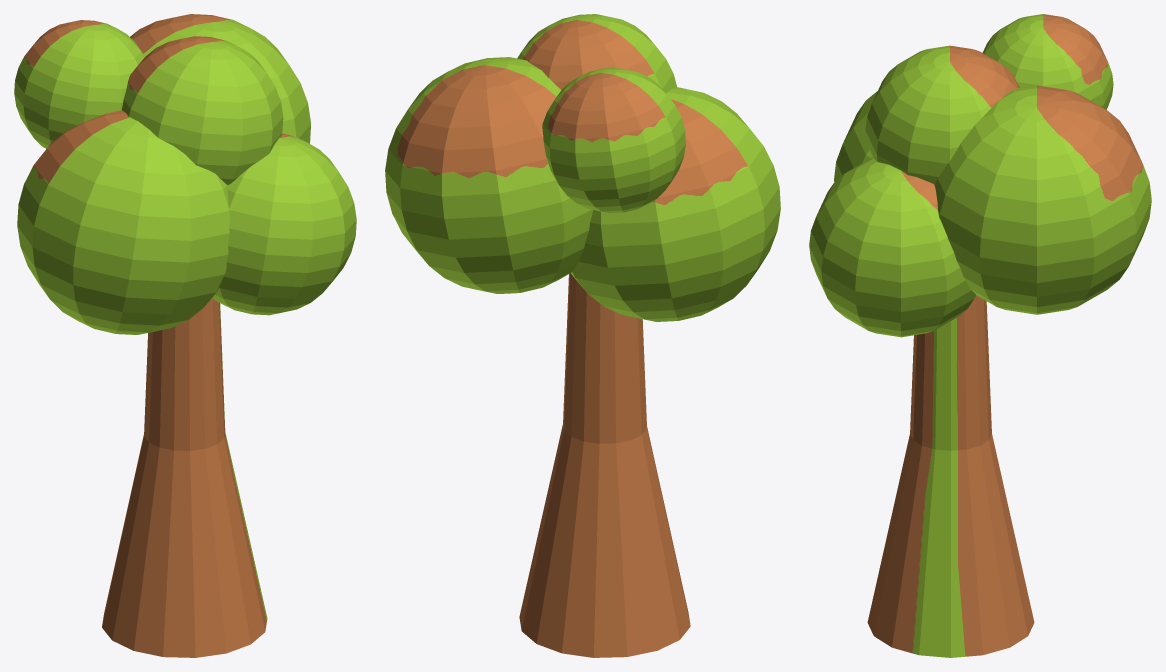
File: ArbolAlgodon.fbx
3 renders of one model, left to right at view 1: azimuth 30°, elevation 25°; view 2: azimuth 150°, elevation 25°; view 3: azimuth 270°, elevation 25°, orthographic. The views are drawn at different scales.
Parts seen in each view (by area): view 1: Circle.001; view 2: Circle.001; view 3: Circle.001.
Boxes of the visible parts, x1=… form: Circle.001: x1=14, y1=14, x2=356, y2=657; Circle.001: x1=385, y1=14, x2=780, y2=657; Circle.001: x1=809, y1=14, x2=1151, y2=657.
Size of the model in its own units: 426 by 761 by 411.
